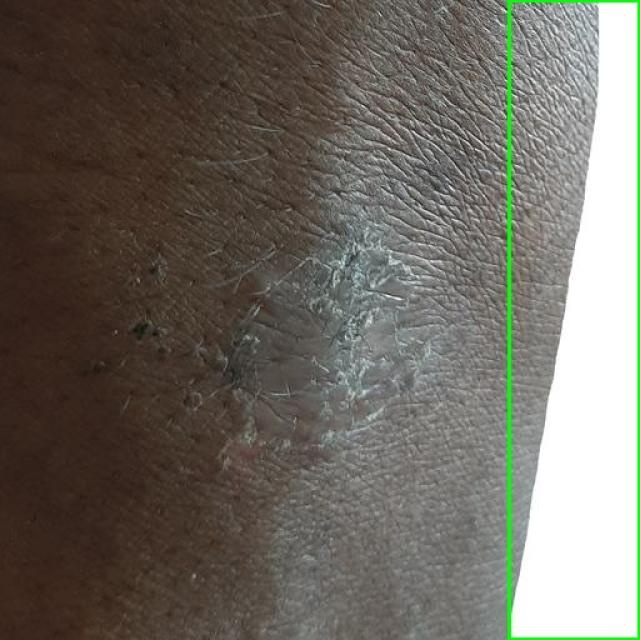Scabies: (509, 0, 639, 639)
